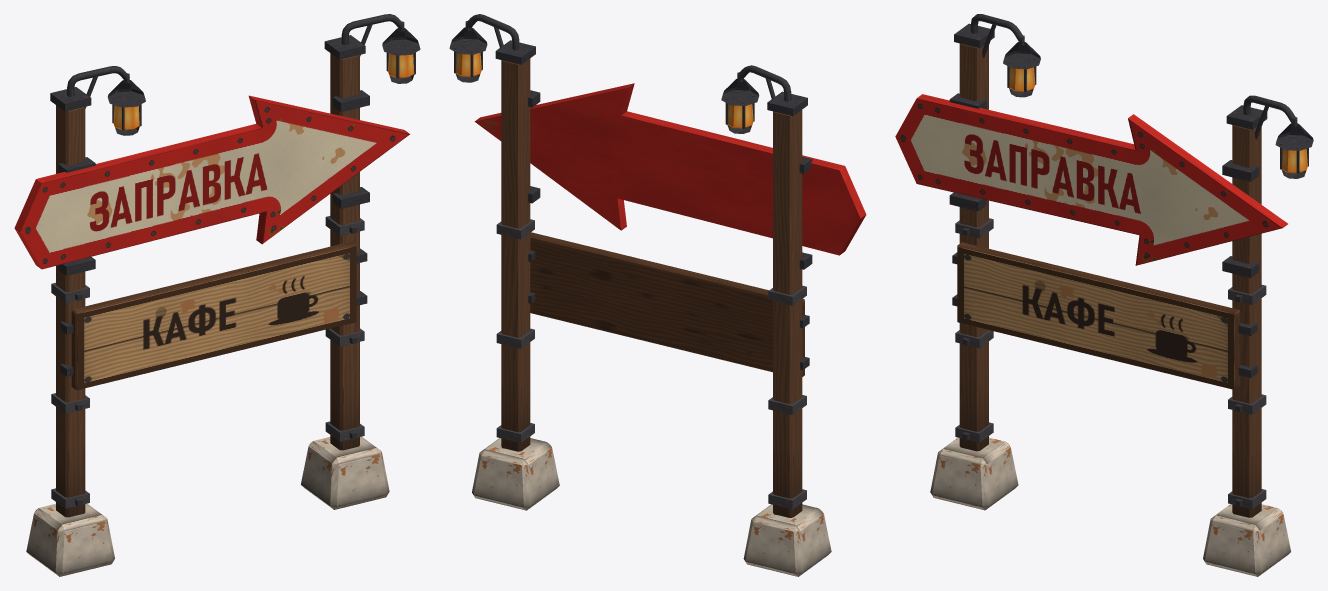
Rendered from Sign_Gas.fbx.
3 views of the same model, side by side, from view 1: azimuth 30°, elevation 25°; view 2: azimuth 150°, elevation 25°; view 3: azimuth 330°, elevation 25° (orthographic).
Visible parts, largest first — view 1: Sign_Gas_Board, Sign_Gas_Posts, Sign_Gas_Plate, Sign_Gas_Lamps; view 2: Sign_Gas_Posts, Sign_Gas_Board, Sign_Gas_Plate, Sign_Gas_Lamps; view 3: Sign_Gas_Board, Sign_Gas_Posts, Sign_Gas_Plate, Sign_Gas_Lamps.
Boxes of the visible parts, x1,y1,x2,y2 form: Sign_Gas_Board: (14, 90, 409, 275); Sign_Gas_Posts: (26, 35, 389, 576); Sign_Gas_Plate: (60, 241, 367, 390); Sign_Gas_Lamps: (67, 14, 420, 135); Sign_Gas_Posts: (472, 40, 831, 576); Sign_Gas_Board: (474, 83, 866, 269); Sign_Gas_Plate: (528, 232, 809, 376); Sign_Gas_Lamps: (449, 14, 791, 133); Sign_Gas_Board: (895, 93, 1287, 277); Sign_Gas_Posts: (930, 23, 1290, 576); Sign_Gas_Plate: (952, 242, 1257, 389); Sign_Gas_Lamps: (970, 14, 1313, 178).
Bounding box in the file's own units: 2.83 × 3.22 × 0.4122.
2 materials, 2 textured.
